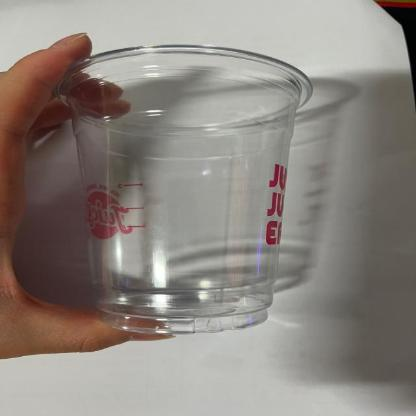Plastic Cup: (46, 42, 314, 334)
